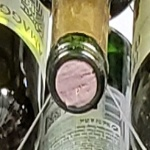bottle: (34, 33, 120, 120)
